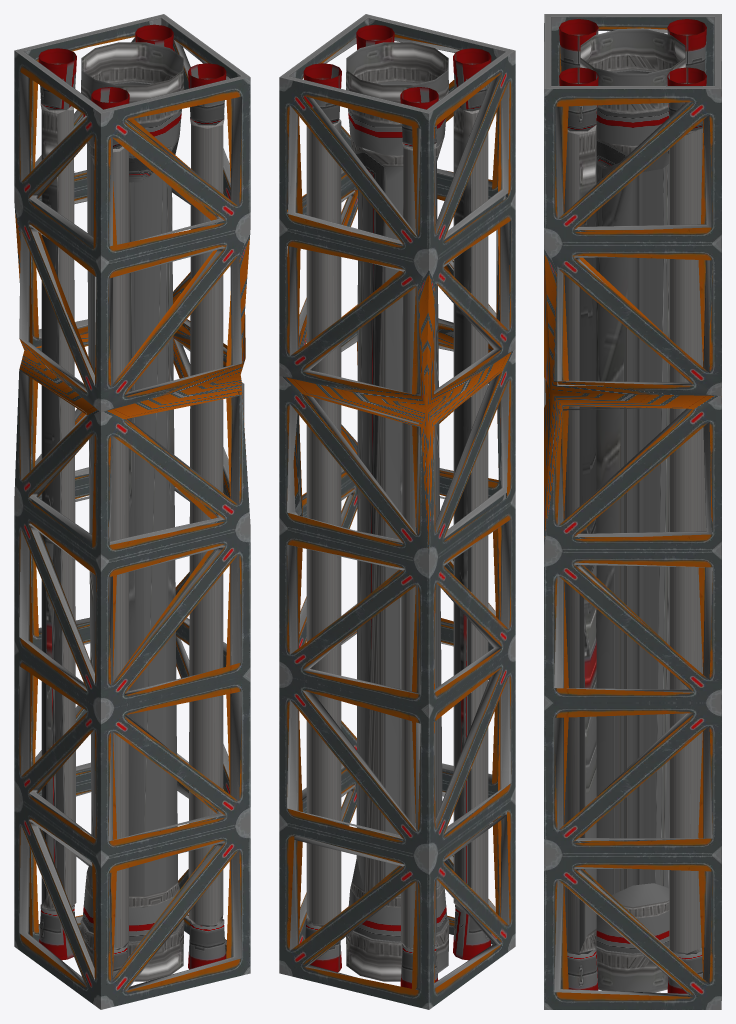
Rendered from core_column_lod1.glb.
The picture shows the model from 3 angles, left to right: view 1: azimuth 30°, elevation 25°; view 2: azimuth 150°, elevation 25°; view 3: azimuth 270°, elevation 25°; orthographic projection. The views are drawn at different scales.
Parts seen in each view (by area): view 1: Column_Pipes; view 2: Column_Pipes; view 3: Column_Pipes.
Boxes of the visible parts, <box> form: Column_Pipes: <box>14,14,250,1009</box>; Column_Pipes: <box>279,14,515,1009</box>; Column_Pipes: <box>544,14,721,1009</box>.
Size of the model in its own units: 0.8747 by 5 by 0.8747.
Materials: 3 (3 with a texture image).
